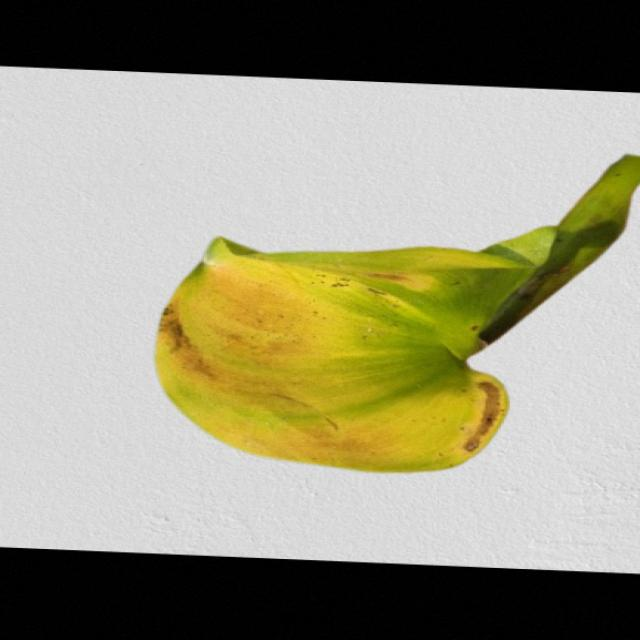daun berpenyakit kuning: (157, 156, 638, 472)
